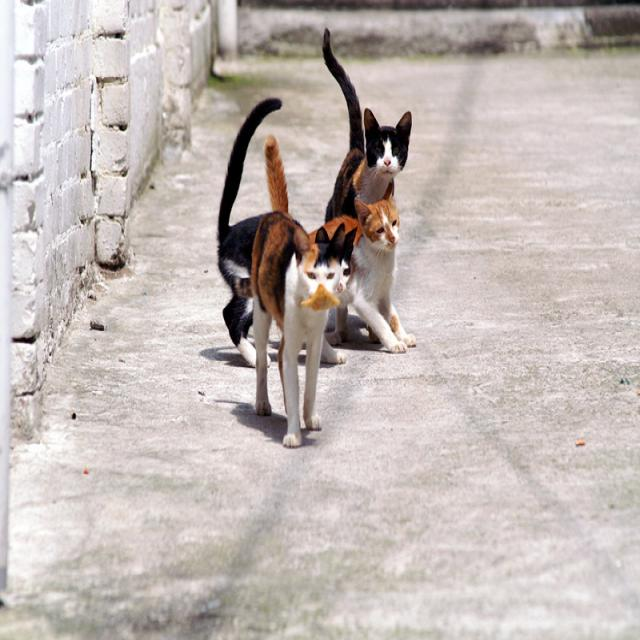cat: (205, 97, 359, 373), (249, 209, 348, 465), (316, 13, 414, 217), (349, 182, 418, 364)
